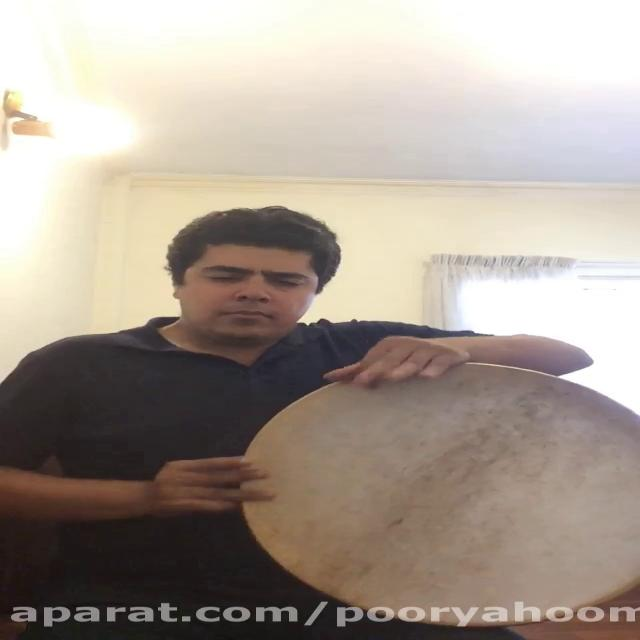Tombak: (243, 357, 640, 619)
